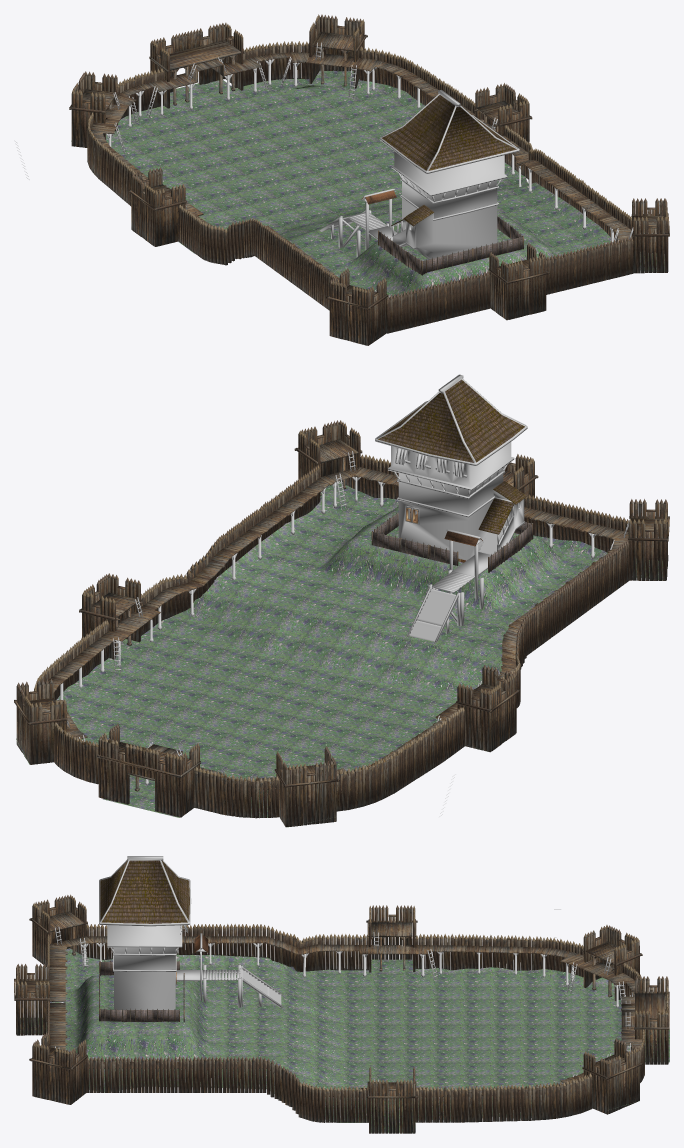
The model's file is KeepWalls&Tower.fbx.
3 views of the same model, one above another, from view 1: azimuth 30°, elevation 25°; view 2: azimuth 150°, elevation 25°; view 3: azimuth 270°, elevation 25° (orthographic). The views are drawn at different scales.
Parts seen in each view (by area): view 1: Group2_Terrain, Group2_KeepWall, Group2_KeepTurrets, MainTower, Group2_KeepWallFloor, TowerRoof, KeepTower_Fence, Group2_KeepBuildingBSupport, DrawBridgeStepsSupports, Group2_KeepWallEntranceFloor, Group2_TurretRms, Group2_KeepEntranceLargeSupports (+1 smaller); view 2: Group2_Terrain, Group2_KeepTurrets, Group2_KeepWall, MainTower, Group2_KeepWallFloor, TowerRoof, KeepTower_Fence, DrawBridgeStepsSupports, Group2_KeepBuildingBSupport, DrawBridgeSteps, Group2_TurretRms, TowerRimWood; view 3: Group2_Terrain, Group2_KeepWall, Group2_KeepTurrets, Group2_KeepWallFloor, TowerRoof, MainTower, KeepTower_Fence, Group2_KeepBuildingBSupport, DrawBridgeStepsSupports, Group2_TurretRms, Group2_KeepWallEntranceFloor, TowerRimWood (+1 smaller).
Part boxes in pixels (bbox=[...]): Group2_Terrain: bbox=[71, 70, 664, 298]; Group2_KeepWall: bbox=[87, 41, 633, 333]; Group2_KeepTurrets: bbox=[71, 14, 668, 345]; MainTower: bbox=[391, 151, 507, 259]; Group2_KeepWallFloor: bbox=[90, 52, 632, 281]; TowerRoof: bbox=[379, 90, 519, 173]; KeepTower_Fence: bbox=[378, 215, 523, 275]; Group2_KeepBuildingBSupport: bbox=[106, 59, 618, 242]; DrawBridgeStepsSupports: bbox=[319, 188, 396, 257]; Group2_KeepWallEntranceFloor: bbox=[169, 40, 240, 70]; Group2_TurretRms: bbox=[69, 34, 669, 309]; Group2_KeepEntranceLargeSupports: bbox=[105, 48, 498, 139]; Group2_Terrain: bbox=[16, 481, 662, 827]; Group2_KeepTurrets: bbox=[16, 420, 668, 826]; Group2_KeepWall: bbox=[34, 454, 629, 818]; MainTower: bbox=[388, 442, 526, 562]; Group2_KeepWallFloor: bbox=[45, 466, 628, 789]; TowerRoof: bbox=[375, 374, 527, 465]; KeepTower_Fence: bbox=[374, 512, 533, 572]; DrawBridgeStepsSupports: bbox=[406, 529, 483, 643]; Group2_KeepBuildingBSupport: bbox=[60, 476, 613, 808]; DrawBridgeSteps: bbox=[409, 589, 456, 641]; Group2_TurretRms: bbox=[14, 448, 669, 787]; TowerRimWood: bbox=[394, 465, 507, 517]; Group2_Terrain: bbox=[20, 948, 669, 1132]; Group2_KeepWall: bbox=[47, 924, 644, 1122]; Group2_KeepTurrets: bbox=[16, 894, 668, 1133]; Group2_KeepWallFloor: bbox=[49, 936, 642, 1096]; TowerRoof: bbox=[99, 856, 191, 926]; MainTower: bbox=[107, 925, 182, 1009]; KeepTower_Fence: bbox=[99, 960, 184, 1021]; Group2_KeepBuildingBSupport: bbox=[61, 943, 632, 1118]; DrawBridgeStepsSupports: bbox=[194, 933, 283, 1007]; Group2_TurretRms: bbox=[29, 918, 642, 1098]; Group2_KeepWallEntranceFloor: bbox=[635, 993, 665, 1026]; TowerRimWood: bbox=[111, 947, 178, 971].
Size of the model in its own units: 2272 by 1008 by 3230.
